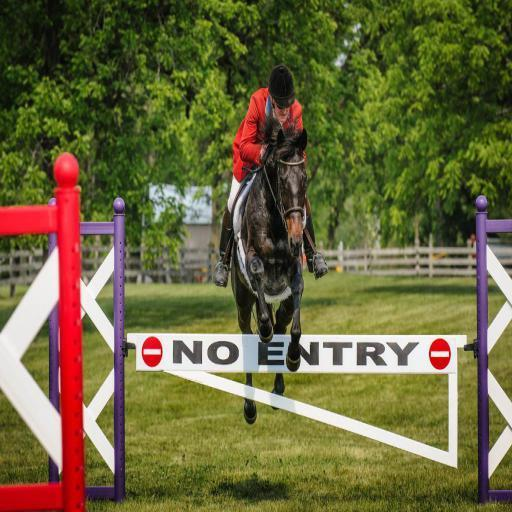horse: (228, 110, 306, 425)
